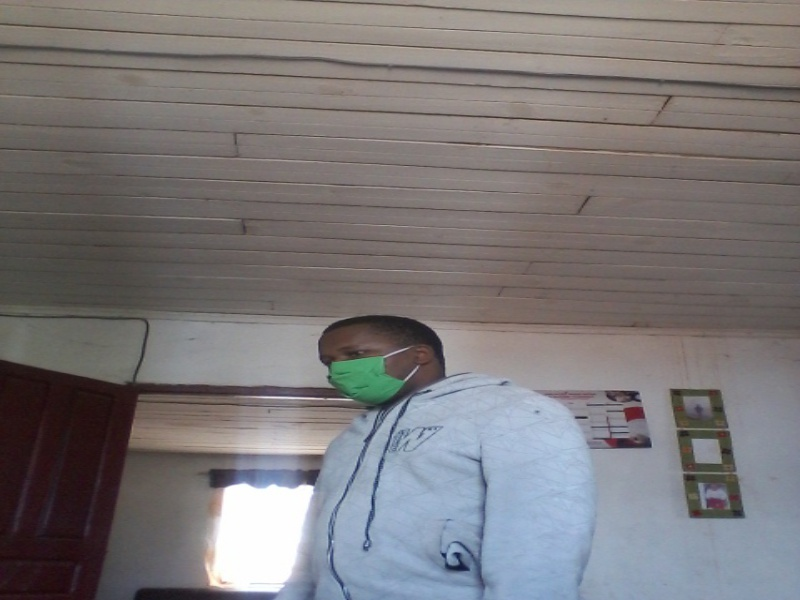ManaoArotava: (312, 308, 412, 408)
